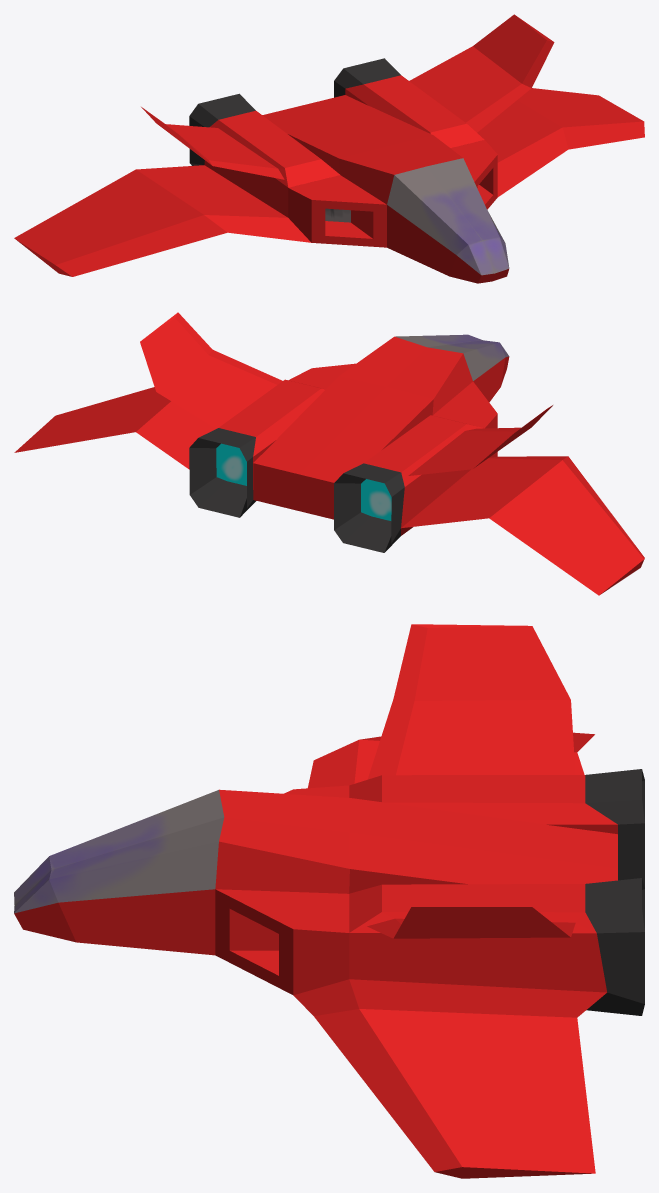
File: SpaceShip.fbx
3 views of the same model, one above another, from view 1: azimuth 30°, elevation 25°; view 2: azimuth 150°, elevation 25°; view 3: azimuth 270°, elevation 25° (orthographic). The views are drawn at different scales.
Parts seen in each view (by area): view 1: Cube; view 2: Cube; view 3: Cube.
Boxes of the visible parts, <box> form: Cube: <box>14,14,644,283</box>; Cube: <box>14,312,644,595</box>; Cube: <box>14,624,644,1178</box>.
Size of the model in its own units: 526 by 108 by 317.
